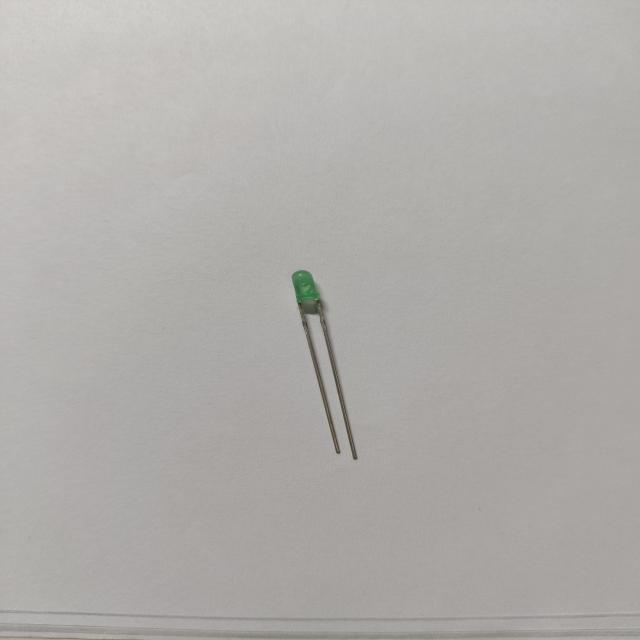led: (277, 260, 381, 467)
